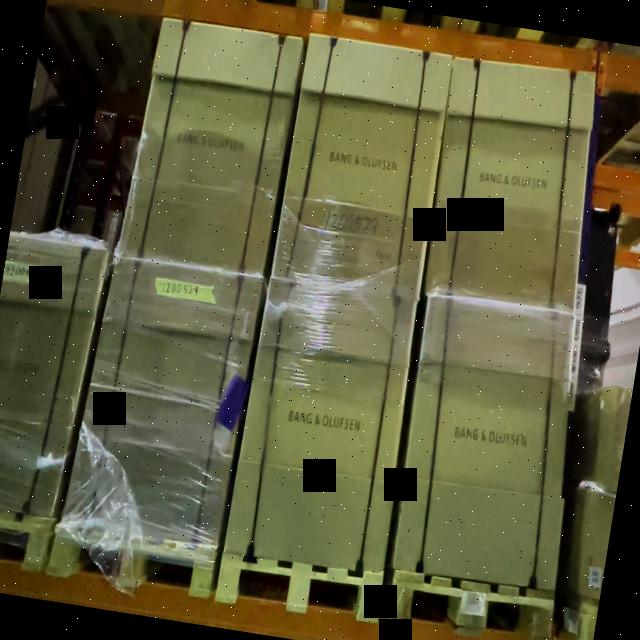box: (228, 281, 422, 567), (390, 302, 570, 582), (68, 265, 250, 540), (125, 15, 302, 286), (276, 38, 455, 300), (416, 58, 602, 310)
